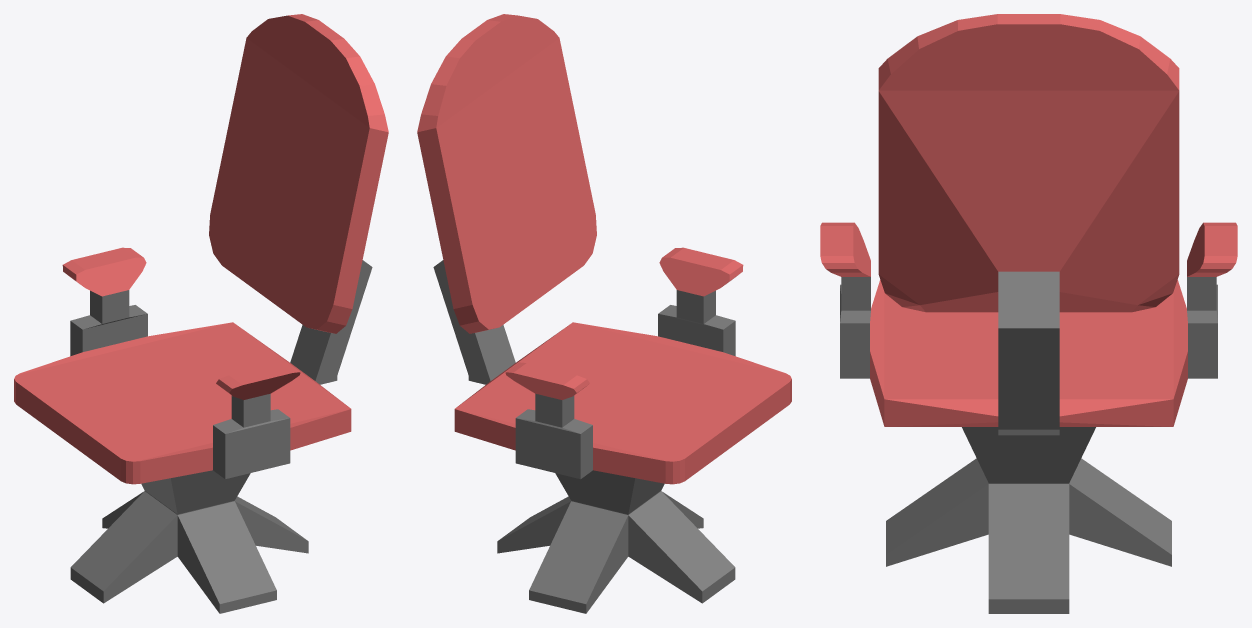
File: Chair_02.fbx
3 views of the same model, side by side, from view 1: azimuth 30°, elevation 25°; view 2: azimuth 150°, elevation 25°; view 3: azimuth 270°, elevation 25° (orthographic). The views are drawn at different scales.
Parts seen in each view (by area): view 1: Office_Chair_01; view 2: Office_Chair_01; view 3: Office_Chair_01.
Boxes of the visible parts, x1,y1,x2,y2 form: Office_Chair_01: [14, 14, 388, 613]; Office_Chair_01: [417, 14, 791, 613]; Office_Chair_01: [820, 14, 1237, 613].
Bounding box in the file's own units: 321 × 531 × 327.
